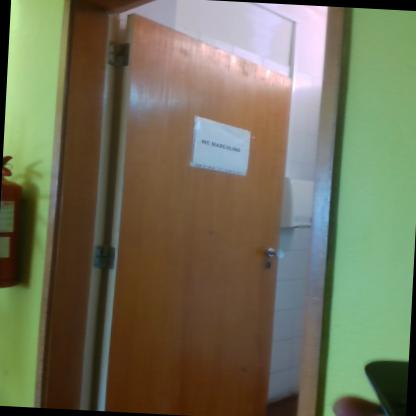open: (41, 0, 348, 416)
